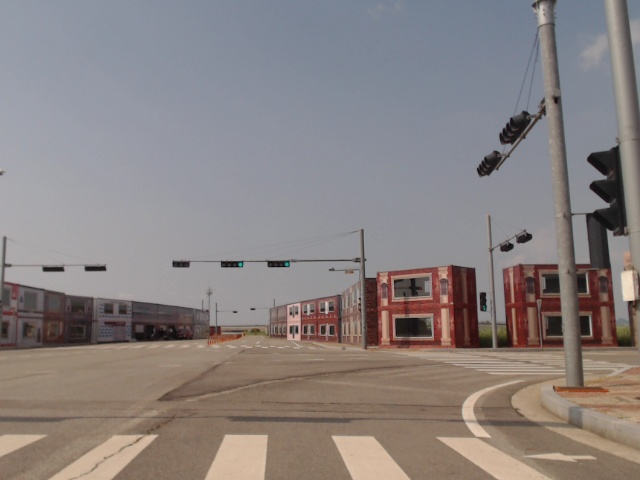straight_green_4: (238, 139, 265, 149), (295, 138, 323, 147)
